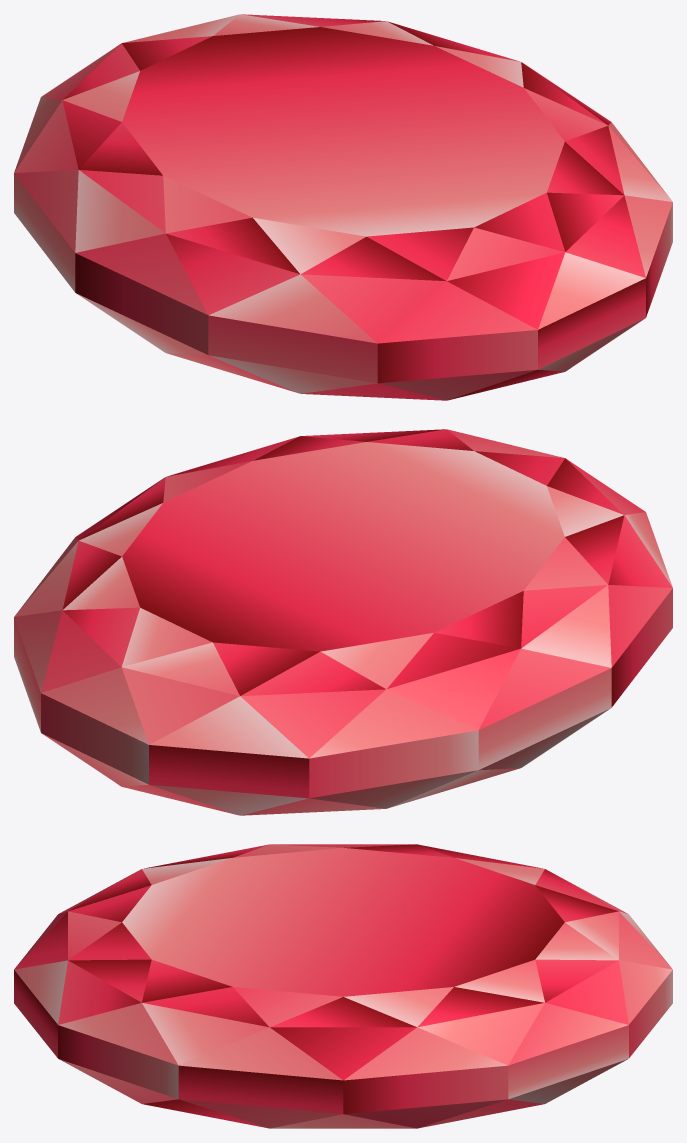
Rendered from oruby.FBX.
The picture shows the model from 3 angles, top to bottom: view 1: azimuth 30°, elevation 25°; view 2: azimuth 150°, elevation 25°; view 3: azimuth 270°, elevation 25°; orthographic projection. The views are drawn at different scales.
Parts seen in each view (by area): view 1: Jewelry_03; view 2: Jewelry_03; view 3: Jewelry_03.
Boxes of the visible parts, x1,y1,x2,y2 form: Jewelry_03: (14,14,672,400); Jewelry_03: (14,429,672,815); Jewelry_03: (14,844,672,1128).
Bounding box in the file's own units: 8.7 × 10.92 × 2.35.
Materials: 1 (1 with a texture image).
